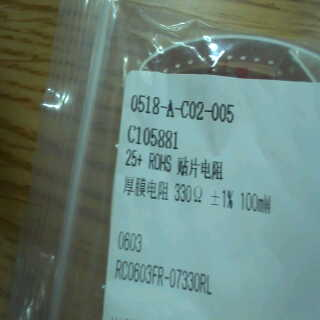330R: (173, 179, 203, 207)
